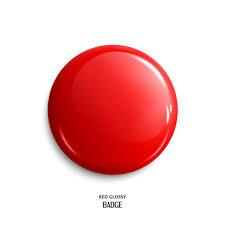red_circle: (40, 32, 183, 181)
